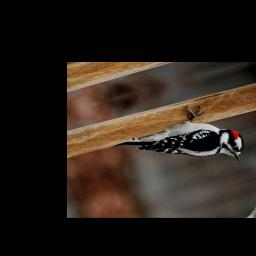Woodpecker: (105, 95, 251, 190)
